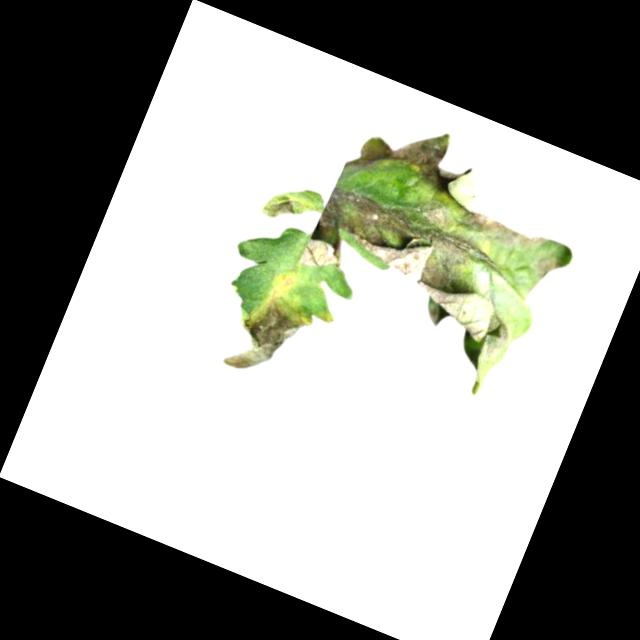Late_blight: (306, 162, 505, 321), (347, 102, 484, 209), (217, 281, 315, 388), (456, 192, 551, 256), (299, 218, 352, 274), (259, 186, 304, 227), (532, 248, 564, 281)
